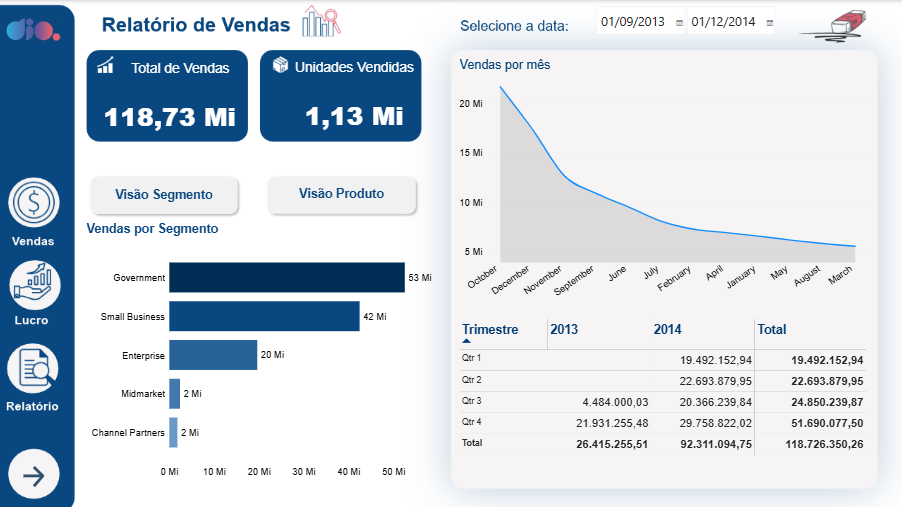

Layout of this report page (visuals, bound fields, positions):
{"tool":"powerbi","page":{"name":"Página 1","canvas":[1920,1080],"ordinal":0},"visuals":[{"type":"image","box":[0,0,1920,1081],"z":0},{"type":"slicer","fields":{"Values":["financials.Date"]},"box":[1263.9,8.1,391.4,73.8],"z":1000,"group":"g1"},{"type":"cardVisual","title":"Total de Vendas","fields":{"Data":["Sum(financials. Sales)"]},"box":[205.4,127.3,358.9,189.7],"z":1000},{"type":"cardVisual","title":"Unidades Vendidas","fields":{"Data":["Sum(financials.Units Sold)"]},"box":[575.5,126.4,358.9,189.7],"z":2000},{"type":"barChart","title":"Vendas por Segmento","fields":{"Category":["financials.Segment"],"Y":["Sum(financials. Sales)"]},"box":[169.4,457.1,790.6,575.5],"z":3000},{"type":"actionButton","box":[185.5,365.7,331.3,98],"z":5000},{"type":"actionButton","box":[562,365.7,333.8,97.8],"z":6000},{"type":"actionButton","box":[18.8,957.3,106.3,112.7],"z":7000},{"type":"areaChart","title":"Vendas por mês","fields":{"Category":["financials.Month Name"],"Y":["Sum(financials. Sales)"]},"box":[962.7,107.6,900.8,556.6],"z":8000},{"type":"pivotTable","fields":{"Columns":["financials.Year"],"Rows":["financials.Date.Variation.Hierarquia de datas.Trimestre"],"Values":["Sum(financials. Sales)"]},"box":[962.7,664.2,898.2,349.6],"z":9000},{"type":"group","id":"g1","title":"data","box":[1263.9,8.1,392.6,75.3],"z":10000},{"type":"actionButton","box":[18.8,540.5,126.4,126.4],"z":12000},{"type":"actionButton","box":[8.1,365.7,126.4,126.4],"z":13000},{"type":"actionButton","box":[1761.5,8.9,82.6,67],"z":13001}]}

Visuals, with their boxes in screenshot pixels (x1, y1, x2, y2), scaled from the page's 1920x1080 canvas onto the 902x507 screenshot:
image: region(0, 0, 901, 506)
slicer - financials.Date: region(594, 4, 778, 38)
"Total de Vendas" cardVisual: region(96, 60, 265, 149)
"Unidades Vendidas" cardVisual: region(270, 59, 439, 148)
"Vendas por Segmento" barChart: region(80, 215, 451, 485)
actionButton: region(87, 172, 243, 218)
actionButton: region(264, 172, 421, 218)
actionButton: region(9, 449, 59, 502)
"Vendas por mês" areaChart: region(452, 51, 875, 312)
pivotTable - financials.Year x financials.Date.Variation.Hierarquia de datas.Trimestre: region(452, 312, 874, 476)
"data" group: region(594, 4, 778, 39)
actionButton: region(9, 254, 68, 313)
actionButton: region(4, 172, 63, 231)
actionButton: region(828, 4, 866, 36)
